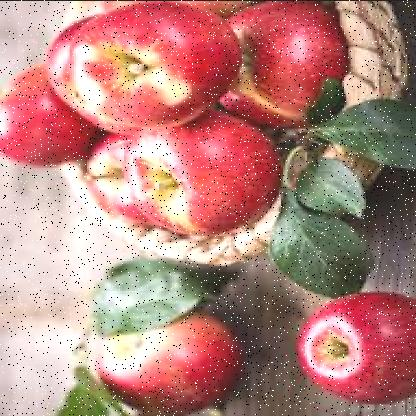apple: (124, 113, 272, 240), (80, 10, 222, 126), (92, 294, 237, 402), (298, 293, 414, 405), (231, 5, 342, 116), (4, 58, 100, 166), (80, 128, 164, 218)
